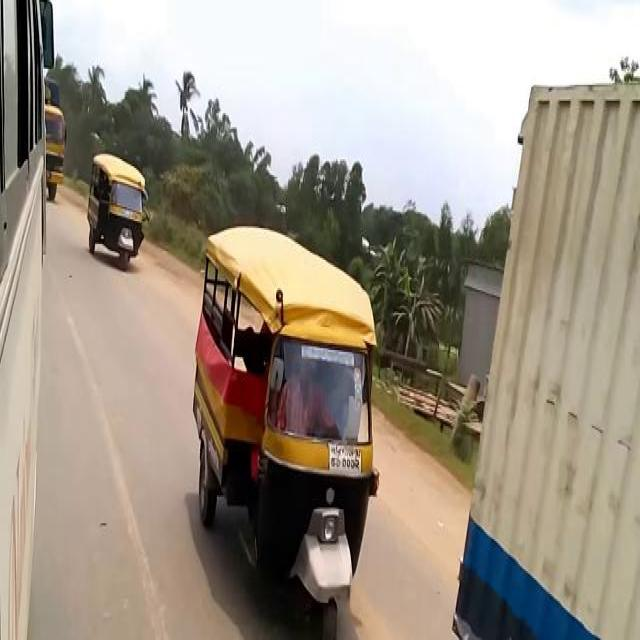bus: (1, 1, 59, 635)
pickup: (450, 60, 636, 633)
three wheelers -CNG-: (188, 221, 385, 635), (86, 145, 150, 274)
truck: (46, 75, 66, 199)
